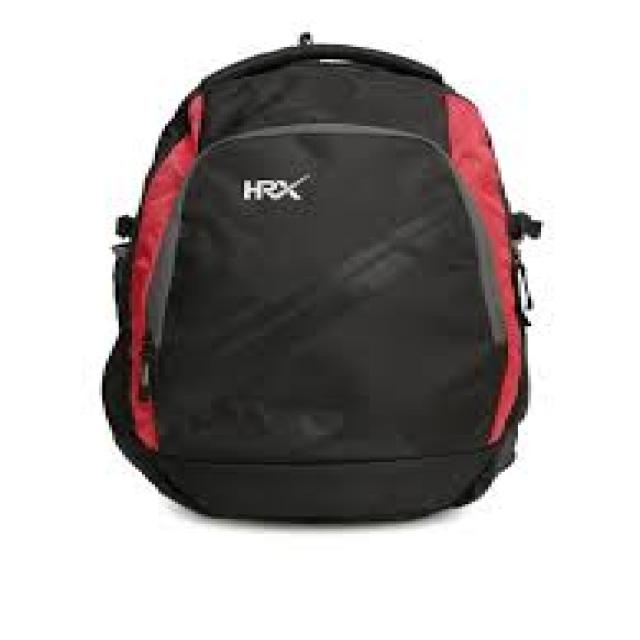backpack: (99, 30, 541, 521)
